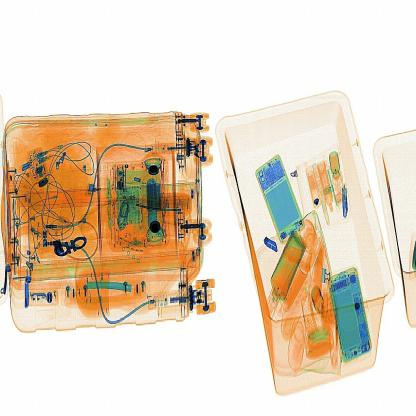wrench: (75, 173, 95, 209)
